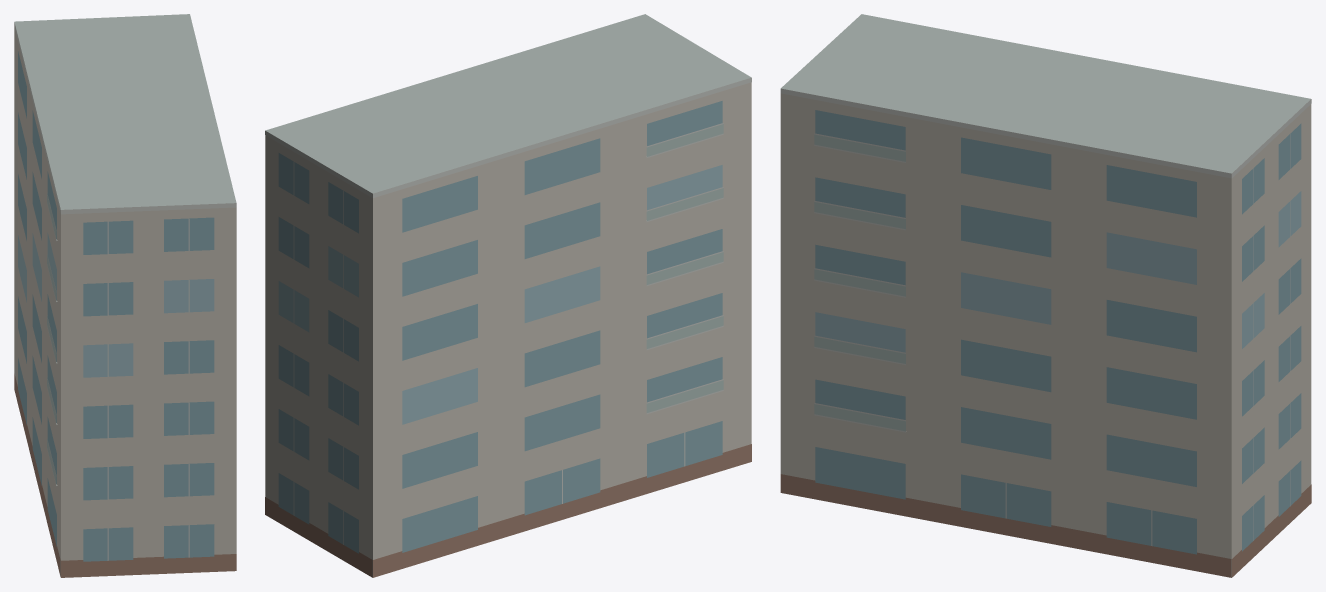
File: survey-upis-32565571.glb
3 renders of one model, left to right at view 1: azimuth 30°, elevation 25°; view 2: azimuth 150°, elevation 25°; view 3: azimuth 270°, elevation 25°, orthographic. The views are drawn at different scales.
Visible parts, largest first — view 1: survey-upis-32565571.tmp; view 2: survey-upis-32565571.tmp; view 3: survey-upis-32565571.tmp.
Boxes of the visible parts, box(x1,y1,x2,y2) form: survey-upis-32565571.tmp: box(14, 14, 236, 577); survey-upis-32565571.tmp: box(265, 14, 751, 577); survey-upis-32565571.tmp: box(780, 14, 1311, 577).
Size of the model in its own units: 17.19 by 20.3 by 24.16.
